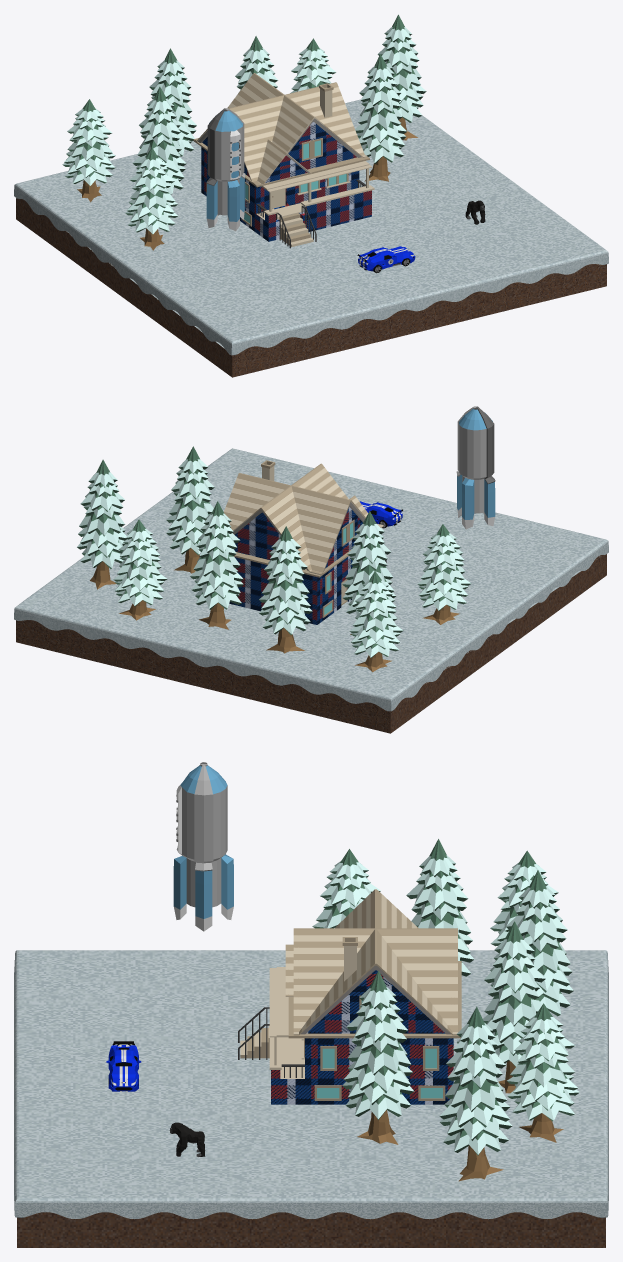
3 views of the same model, one above another, from view 1: azimuth 30°, elevation 25°; view 2: azimuth 150°, elevation 25°; view 3: azimuth 270°, elevation 25° (orthographic). The views are drawn at different scales.
Visible parts, largest first — view 1: Cube.003, Cube.171, OBJRANDOM_ROCKETSHIP, VEHICLES_RACING_CAR; view 2: Cube.003, Cube.171, OBJRANDOM_ROCKETSHIP, VEHICLES_RACING_CAR; view 3: Cube.003, Cube.171, OBJRANDOM_ROCKETSHIP, VEHICLES_RACING_CAR, ANIMAL_GORILA.
Part boxes in pixels (x1=…): Cube.003: x1=14, y1=14, x2=608, y2=377; Cube.171: x1=193, y1=73, x2=374, y2=248; OBJRANDOM_ROCKETSHIP: x1=206, y1=108, x2=245, y2=231; VEHICLES_RACING_CAR: x1=357, y1=246, x2=415, y2=273; Cube.003: x1=14, y1=446, x2=608, y2=733; Cube.171: x1=224, y1=460, x2=386, y2=624; OBJRANDOM_ROCKETSHIP: x1=456, y1=406, x2=495, y2=529; VEHICLES_RACING_CAR: x1=360, y1=501, x2=402, y2=528; Cube.003: x1=14, y1=839, x2=608, y2=1247; Cube.171: x1=238, y1=889, x2=461, y2=1104; OBJRANDOM_ROCKETSHIP: x1=173, y1=762, x2=233, y2=931; VEHICLES_RACING_CAR: x1=106, y1=1041, x2=141, y2=1091; ANIMAL_GORILA: x1=169, y1=1122, x2=205, y2=1156.
Bounding box in the file's own units: 4040 × 2129 × 4040.
Materials: 33 (4 with a texture image).
